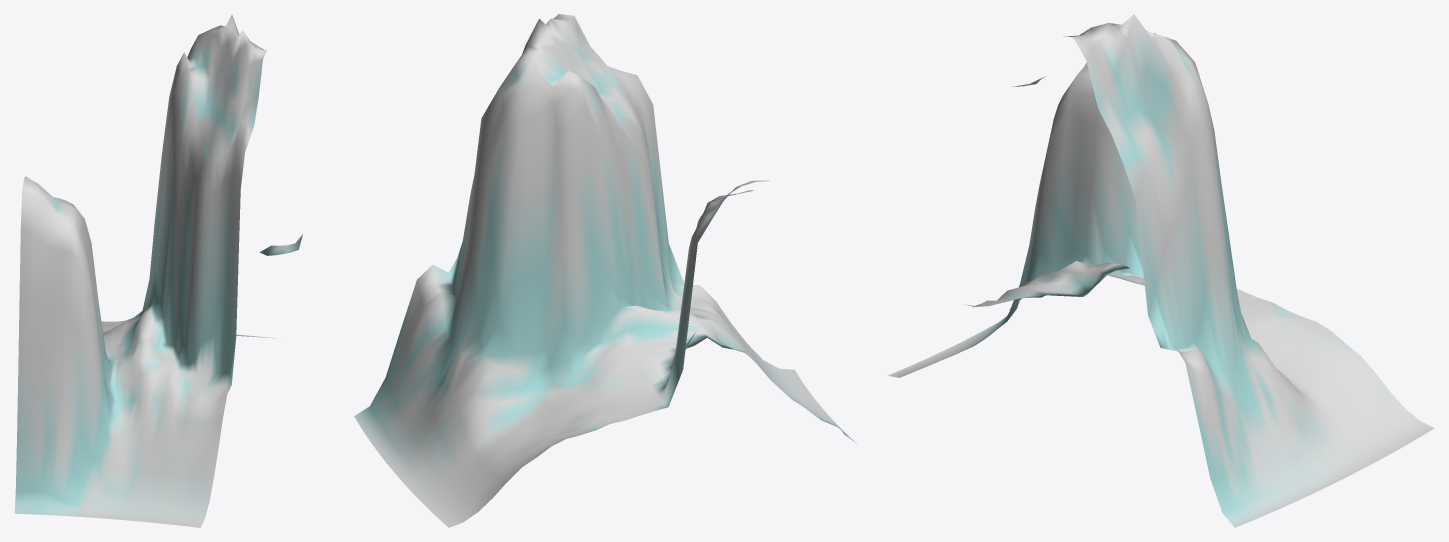
Rendered from middle_13.glb.
3 renders of one model, left to right at view 1: azimuth 30°, elevation 25°; view 2: azimuth 150°, elevation 25°; view 3: azimuth 270°, elevation 25°, orthographic. The views are drawn at different scales.
Parts seen in each view (by area): view 1: Mountain; view 2: Mountain; view 3: Mountain.
Boxes of the visible parts, box(x1,y1,x2,y2) form: Mountain: box(14, 14, 302, 527); Mountain: box(354, 14, 856, 527); Mountain: box(887, 14, 1434, 527).
Bounding box in the file's own units: 623 × 580 × 656.
